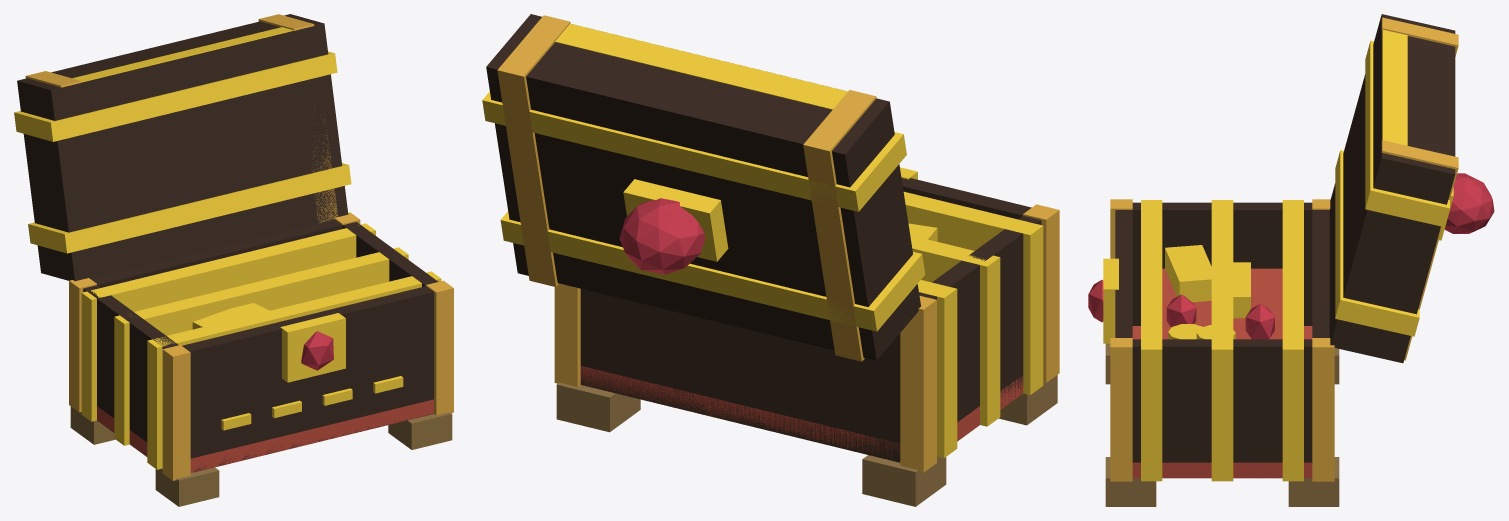
Rendered from loot_chest_gilded_open.glb.
3 renders of one model, left to right at view 1: azimuth 30°, elevation 25°; view 2: azimuth 150°, elevation 25°; view 3: azimuth 270°, elevation 25°, orthographic. The views are drawn at different scales.
Visible parts, largest first — view 1: Gild_Lid.001, Gild_Body_Front.001, Gild_Band_3.001, Gild_Band_2.001, Gild_Lid_Band_2.001, Gild_Lid_Band_1.001, Gild_Band_1.001, Gild_Body_Left.001, Gild_Body_Floor.001, Gild_Corner_1.001, Gild_Body_Back.001, Gild_Lock.001 (+11 smaller); view 2: Gild_Lid.001, Gild_Body_Back.001, Gild_Lid_Band_1.001, Gild_Lid_Band_2.001, Gild_Body_Left.001, Gild_Lid_Corner_2.001, Gild_Lid_Corner_1.001, Gild_Band_1.001, Gild_Lid_Lip.001, Gild_Body_Floor.001, Gild_Corner_3.001, Gild_Band_2.001 (+9 smaller); view 3: Gild_Lid.001, Gild_Body_Right.001, Gild_Body_Left.001, Gild_Band_2.001, Gild_Band_1.001, Gild_Band_3.001, Gild_Corner_2.001, Gild_Corner_4.001, Gild_Lid_Band_2.001, Gild_Lid_Band_1.001, Gild_Lid_Lip.001, Gild_Velvet (+16 smaller).
Boxes of the visible parts, <box> form: Gild_Lid.001: <box>17,14,348,281</box>; Gild_Body_Front.001: <box>182,286,433,471</box>; Gild_Band_3.001: <box>81,223,375,421</box>; Gild_Band_2.001: <box>114,247,408,445</box>; Gild_Lid_Band_2.001: <box>28,163,351,253</box>; Gild_Lid_Band_1.001: <box>14,51,337,141</box>; Gild_Band_1.001: <box>147,271,441,469</box>; Gild_Body_Left.001: <box>83,285,178,442</box>; Gild_Body_Floor.001: <box>97,399,433,472</box>; Gild_Corner_1.001: <box>162,345,190,480</box>; Gild_Body_Back.001: <box>91,219,342,287</box>; Gild_Lock.001: <box>280,313,345,382</box>; Gild_Lid.001: <box>486,14,920,360</box>; Gild_Body_Back.001: <box>580,289,900,462</box>; Gild_Lid_Band_1.001: <box>482,91,906,211</box>; Gild_Lid_Band_2.001: <box>500,211,925,331</box>; Gild_Body_Left.001: <box>919,216,1041,422</box>; Gild_Lid_Corner_2.001: <box>497,15,570,286</box>; Gild_Lid_Corner_1.001: <box>803,90,876,361</box>; Gild_Band_1.001: <box>903,191,1043,394</box>; Gild_Lid_Lip.001: <box>555,23,847,109</box>; Gild_Body_Floor.001: <box>580,366,1023,459</box>; Gild_Corner_3.001: <box>900,296,936,472</box>; Gild_Band_2.001: <box>910,235,1000,426</box>; Gild_Lid.001: <box>1329,14,1455,363</box>; Gild_Body_Right.001: <box>1132,339,1312,462</box>; Gild_Body_Left.001: <box>1132,202,1312,325</box>; Gild_Band_2.001: <box>1211,200,1233,481</box>; Gild_Band_1.001: <box>1141,200,1162,481</box>; Gild_Band_3.001: <box>1282,200,1303,481</box>; Gild_Corner_2.001: <box>1110,338,1132,481</box>; Gild_Corner_4.001: <box>1312,338,1334,481</box>; Gild_Lid_Band_2.001: <box>1335,150,1419,336</box>; Gild_Lid_Band_1.001: <box>1365,40,1449,227</box>; Gild_Lid_Lip.001: <box>1382,29,1407,145</box>; Gild_Velvet: <box>1162,268,1282,339</box>.
Bounding box in the file's own units: 1.12 × 1.23 × 1.29.
